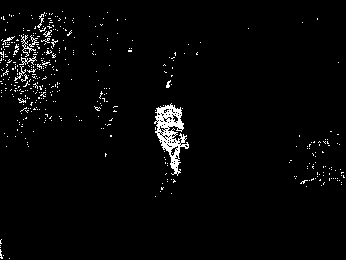person: (154, 105, 189, 180)
